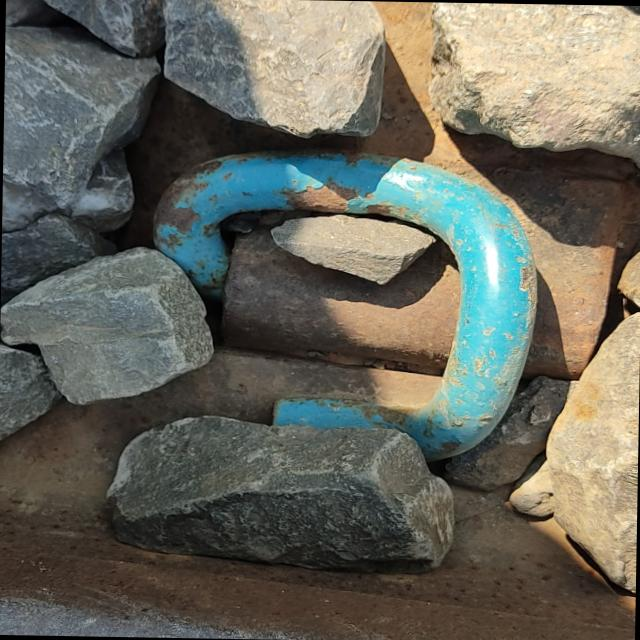track_bolt: (136, 134, 556, 470)
